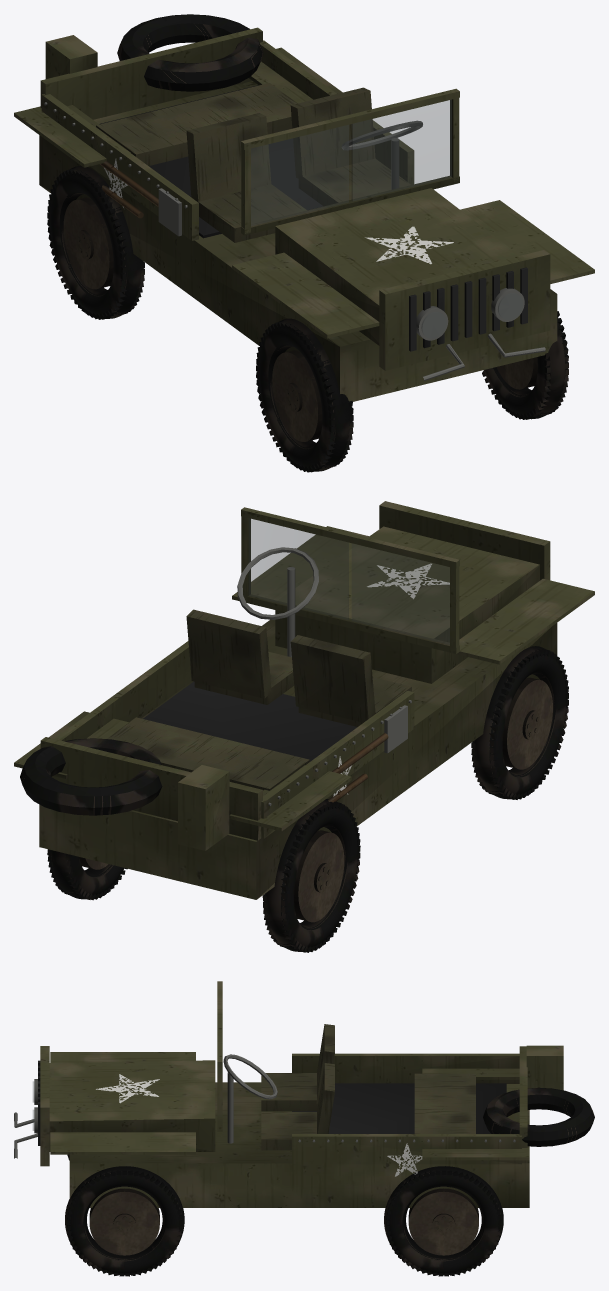
Rendered from jeep.glb.
3 renders of one model, top to bottom at view 1: azimuth 30°, elevation 25°; view 2: azimuth 150°, elevation 25°; view 3: azimuth 270°, elevation 25°, orthographic. The views are drawn at different scales.
Visible parts, largest first — view 1: Body, Axle_Front, Axle_Rear; view 2: Body, Axle_Rear, Axle_Front; view 3: Body, Axle_Front, Axle_Rear.
Part boxes in pixels (x1,y1,x2,y2): Body: (14, 14, 594, 401); Axle_Front: (256, 311, 568, 472); Axle_Rear: (47, 166, 144, 319); Body: (14, 501, 594, 899); Axle_Rear: (47, 799, 360, 952); Axle_Front: (471, 646, 568, 799); Body: (14, 981, 594, 1207); Axle_Front: (65, 1154, 184, 1276); Axle_Rear: (384, 1166, 503, 1276).
Bounding box in the file's own units: 1.54 × 1.53 × 3.79.
Materials: 9 (6 with a texture image).
